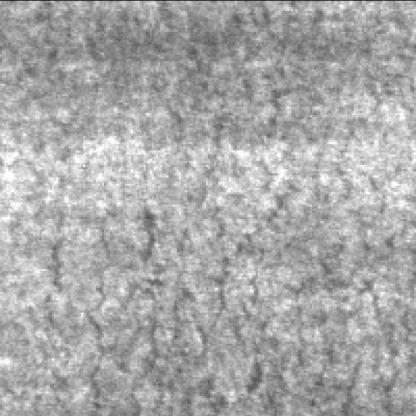crazing: (187, 14, 385, 414), (56, 204, 169, 414)
